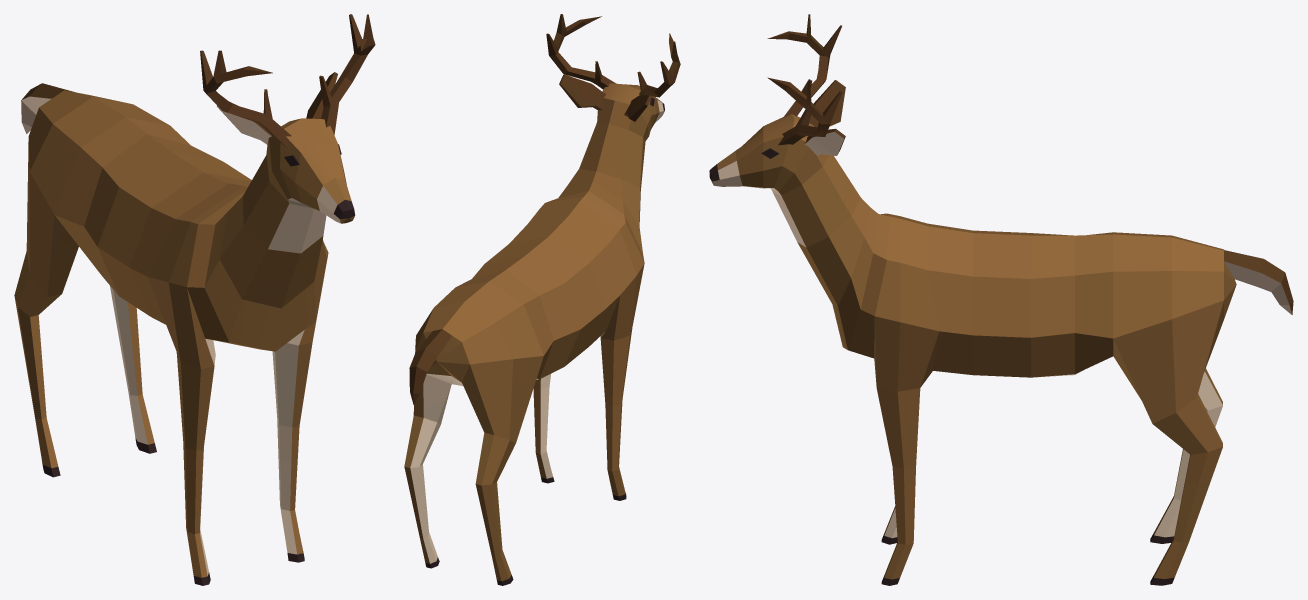
The model's file is deer.glb.
3 views of the same model, side by side, from view 1: azimuth 30°, elevation 25°; view 2: azimuth 150°, elevation 25°; view 3: azimuth 270°, elevation 25° (orthographic). The views are drawn at different scales.
Visible parts, largest first — view 1: Geo_Deer; view 2: Geo_Deer; view 3: Geo_Deer.
Part boxes in pixels (bbox=[...]): Geo_Deer: bbox=[14, 14, 375, 585]; Geo_Deer: bbox=[404, 14, 680, 585]; Geo_Deer: bbox=[709, 14, 1293, 585].
Bounding box in the file's own units: 40.26 × 135 × 139.
Materials: 1 (1 with a texture image).
